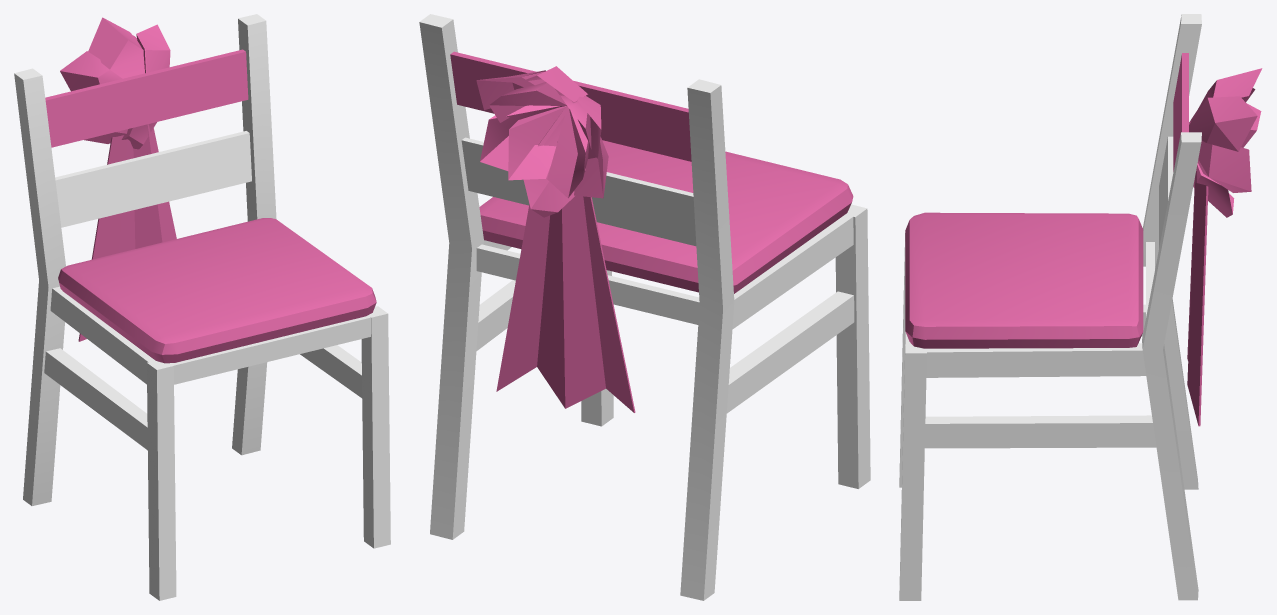
Rendered from wedding_chair.fbx.
3 renders of one model, left to right at view 1: azimuth 30°, elevation 25°; view 2: azimuth 150°, elevation 25°; view 3: azimuth 270°, elevation 25°, orthographic. The views are drawn at different scales.
Visible parts, largest first — view 1: wedding_chair; view 2: wedding_chair; view 3: wedding_chair.
Part boxes in pixels (bbox=[...]): wedding_chair: bbox=[14, 14, 390, 600]; wedding_chair: bbox=[419, 14, 870, 600]; wedding_chair: bbox=[899, 14, 1262, 600].
Size of the model in its own units: 6.08 by 10.38 by 7.28.
